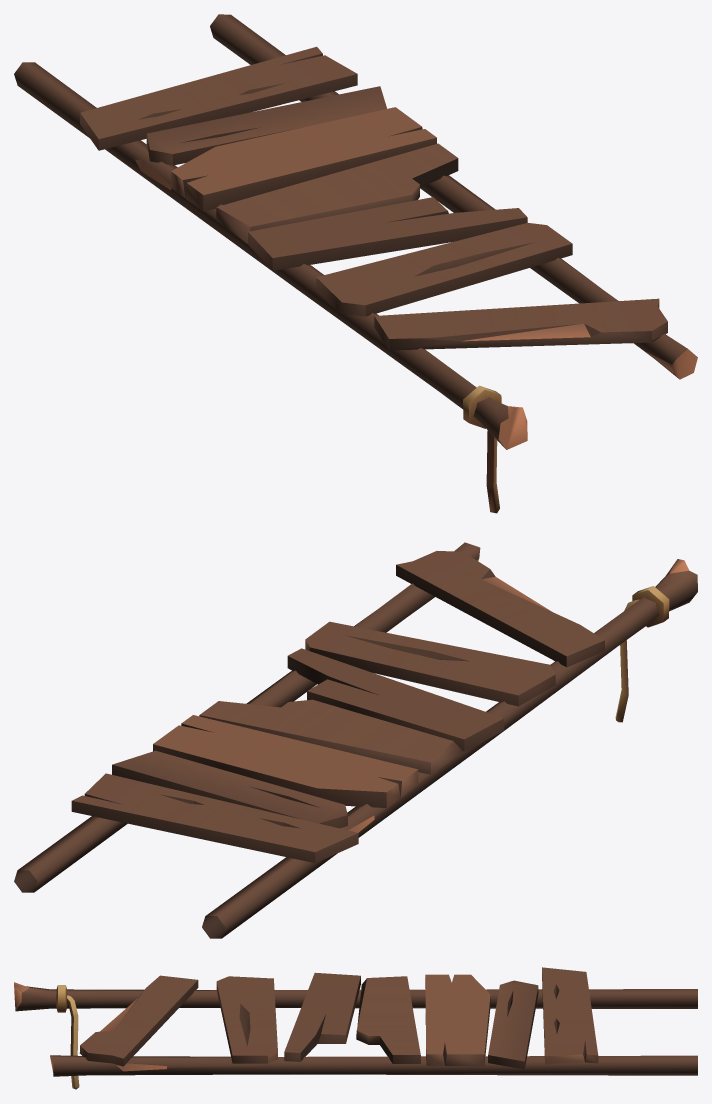
File: Suspended_Bridge_1A.fbx
3 renders of one model, top to bottom at view 1: azimuth 30°, elevation 25°; view 2: azimuth 150°, elevation 25°; view 3: azimuth 270°, elevation 25°, orthographic. The views are drawn at different scales.
Parts seen in each view (by area): view 1: Suspended_Bridge_1A; view 2: Suspended_Bridge_1A; view 3: Suspended_Bridge_1A.
Boxes of the visible parts, <box> form: Suspended_Bridge_1A: <box>14,14,697,513</box>; Suspended_Bridge_1A: <box>14,542,697,938</box>; Suspended_Bridge_1A: <box>14,967,697,1089</box>.
Size of the model in its own units: 220 by 113 by 694.
